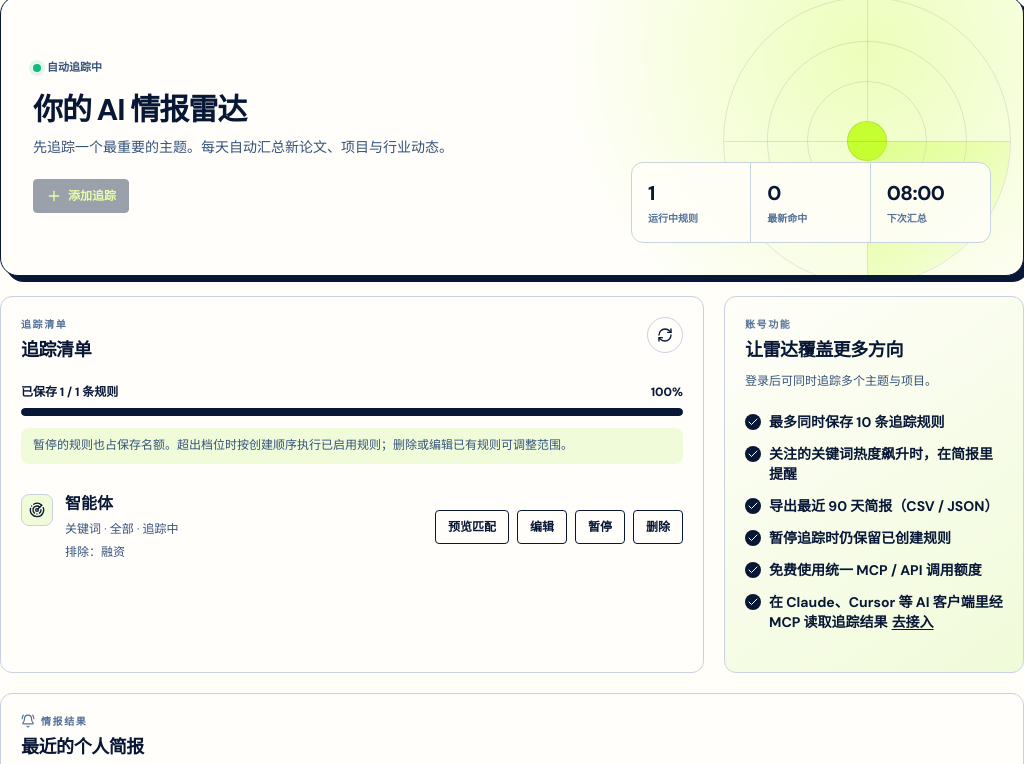
Test: personal tracking › counts every match by source and names the English words a Chinese term also matched
This screenshot has width=1024, height=764.
Click the button "预览匹配": click(472, 527) [435, 510, 509, 544]
(page scrolled)
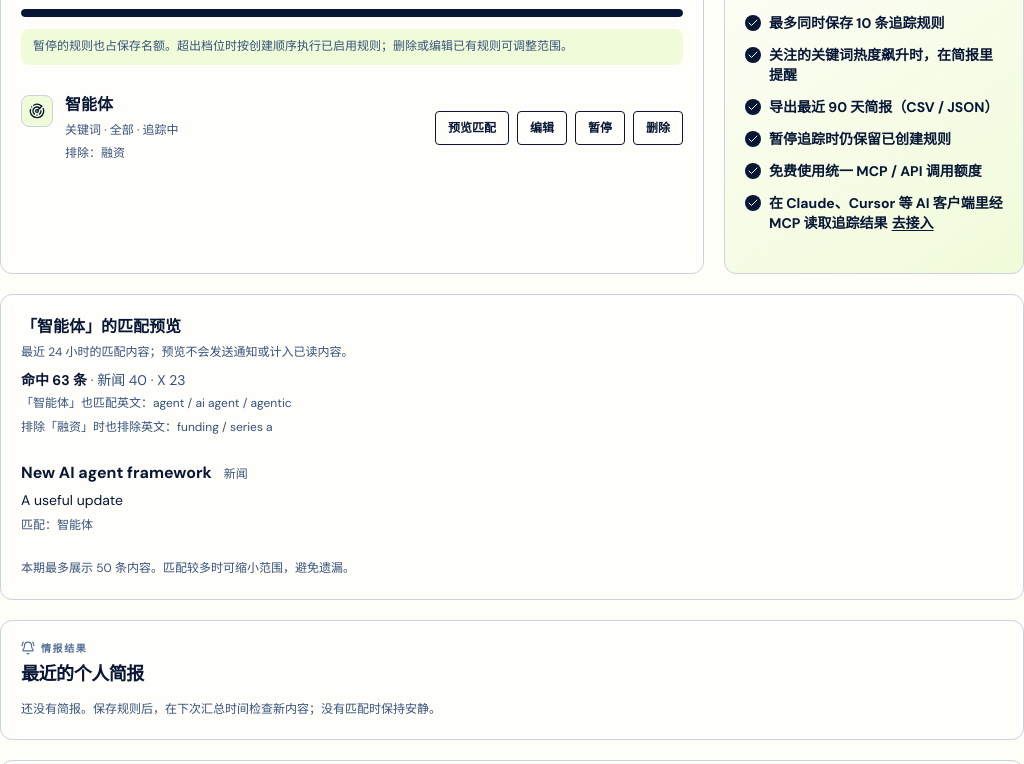
Now the element with class "tracking-preview-count" reads "命中 63 条 · 新闻 40 · X 23", box [21, 371, 186, 389]
Now the elements with class "tracking-preview-expansion" read "「智能体」也匹配英文：agent / ai agent / agentic", "排除「融资」时也排除英文：funding / series a", in this order, box [21, 395, 292, 411]; [21, 418, 273, 434]
